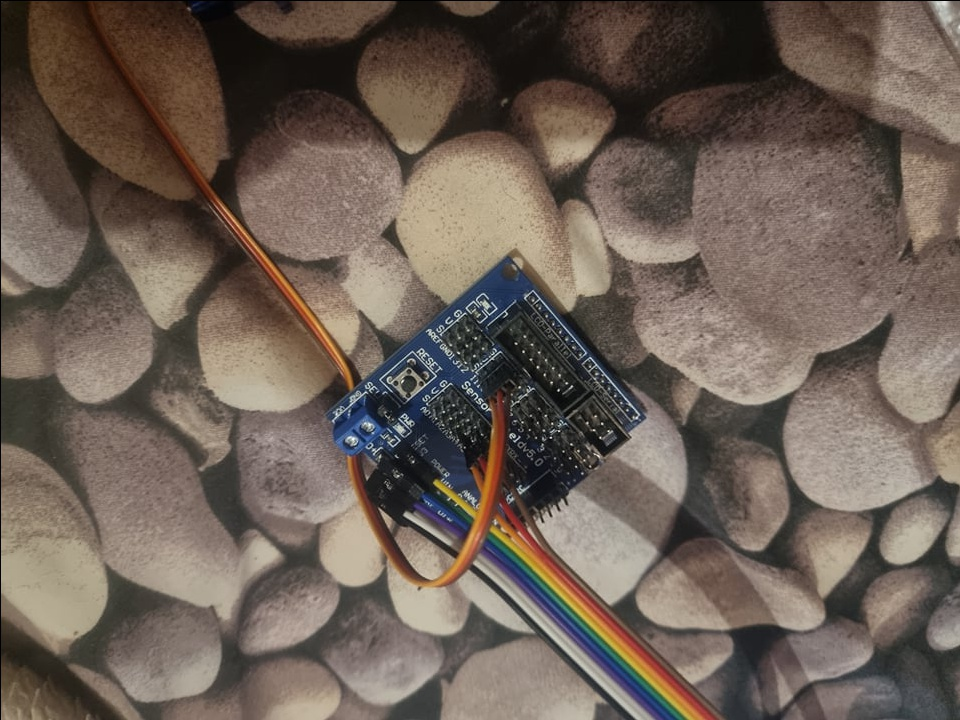5V EXPANSION: (324, 255, 649, 543)
